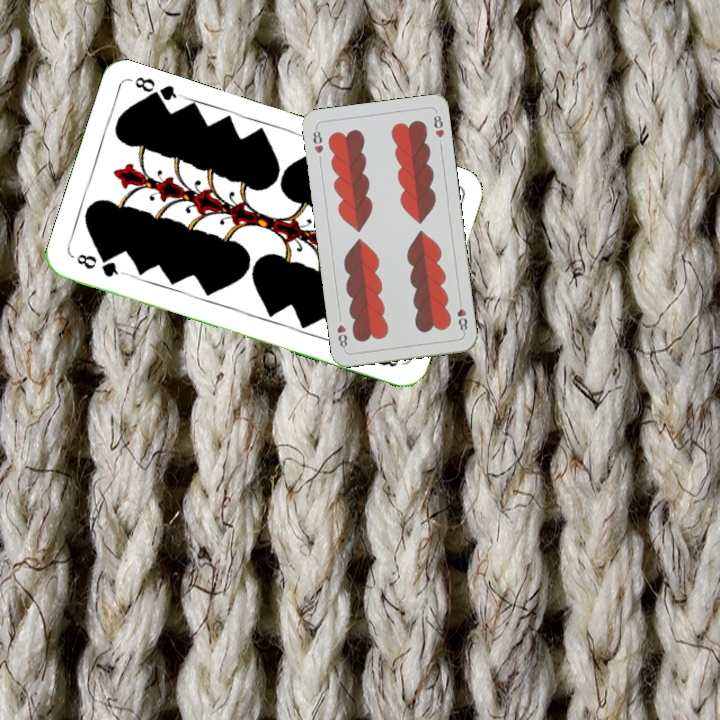G8: (72, 250, 127, 280)
H8: (453, 296, 470, 336), (309, 124, 326, 156)
